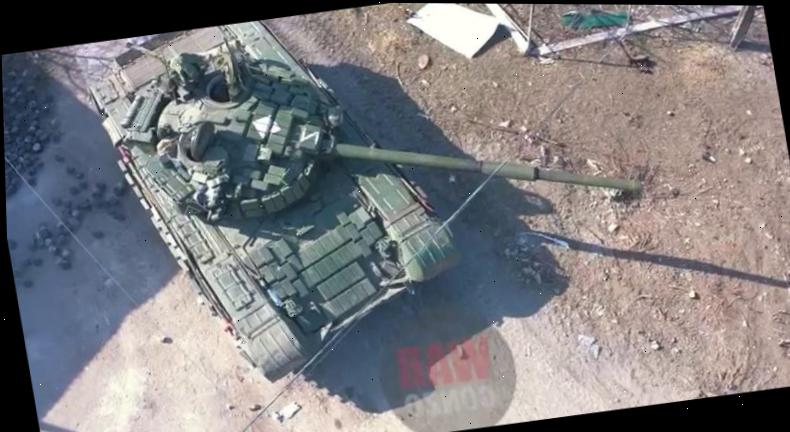tank: (77, 1, 668, 405)
